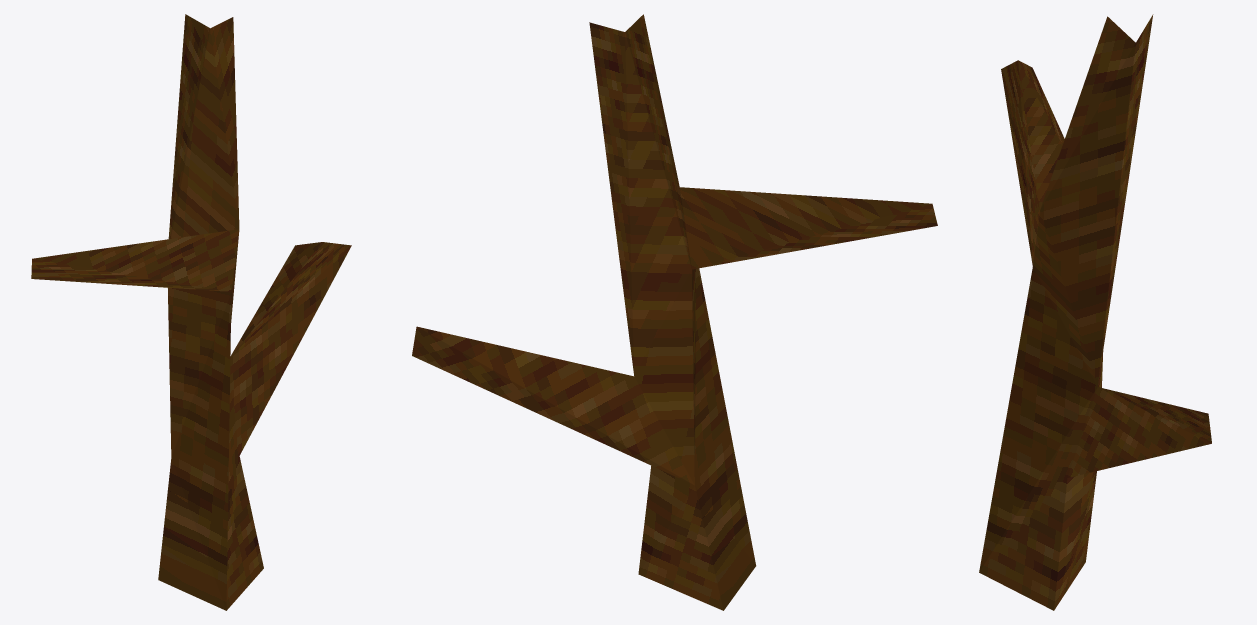
The model's file is treebranch09.glb.
3 views of the same model, side by side, from view 1: azimuth 30°, elevation 25°; view 2: azimuth 150°, elevation 25°; view 3: azimuth 270°, elevation 25° (orthographic). The views are drawn at different scales.
Visible parts, largest first — view 1: treebranch09; view 2: treebranch09; view 3: treebranch09.
Boxes of the visible parts, x1,y1,x2,y2 form: treebranch09: [31, 14, 351, 610]; treebranch09: [412, 14, 937, 610]; treebranch09: [979, 14, 1211, 610].
Bounding box in the file's own units: 542 × 652 × 269.
Materials: 1 (1 with a texture image).
